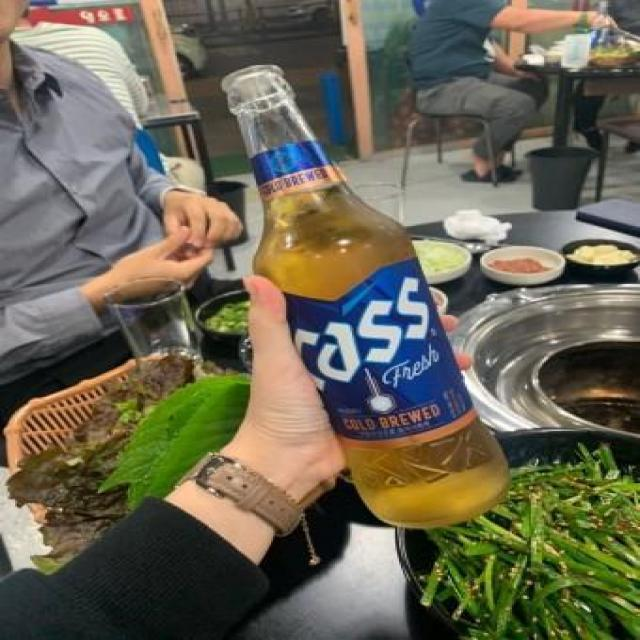beer-bottle: (216, 58, 520, 530)
